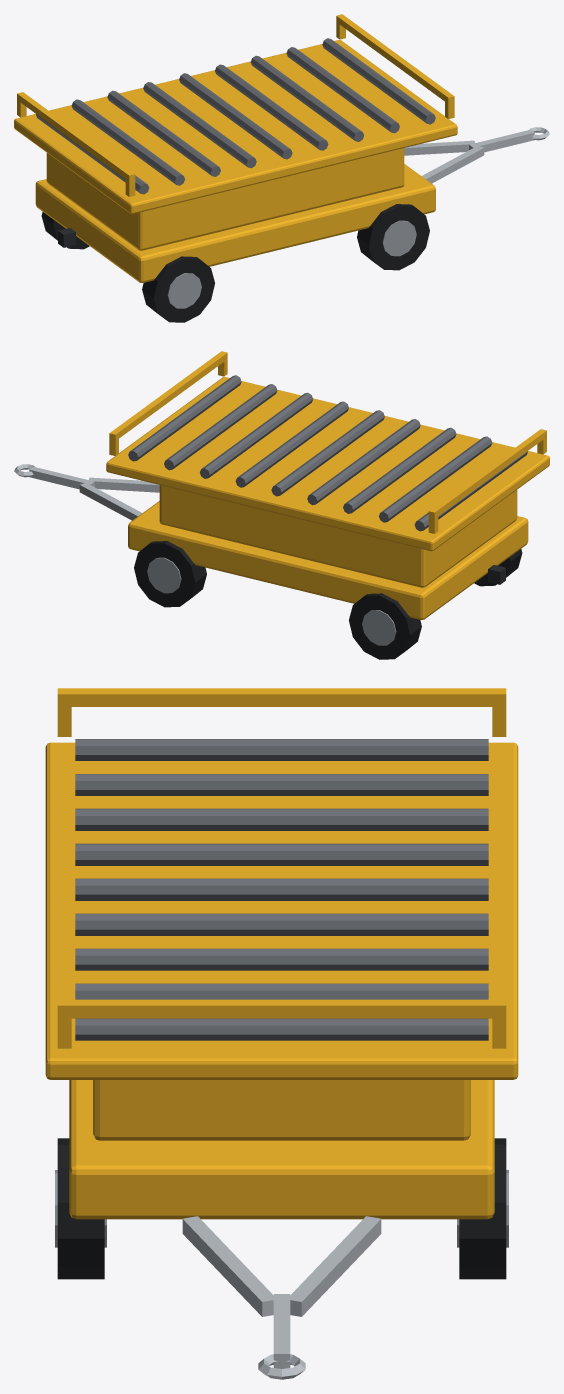
The model's file is dolly.glb.
3 views of the same model, one above another, from view 1: azimuth 30°, elevation 25°; view 2: azimuth 150°, elevation 25°; view 3: azimuth 270°, elevation 25° (orthographic). The views are drawn at different scales.
Visible parts, largest first — view 1: Deck, Body, Frame, Wheel, Wheel.002, Roller.002, Roller.005, Roller.008, Roller.003, Roller.004, Roller.001, Roller.007 (+10 smaller); view 2: Deck, Body, Frame, Wheel.001, Wheel.003, Roller.002, Roller.005, Roller.008, Roller.003, Roller.004, Roller.001, Roller.007 (+10 smaller); view 3: Deck, Frame, Body, Roller.002, Roller.003, Roller.004, Roller.005, Roller.006, Roller.008, Roller, Roller.001, EndRail.001 (+7 smaller).
Boxes of the visible parts, box(x1,y1,x2,y2) form: Deck: box(14, 40, 457, 214); Body: box(46, 148, 404, 250); Frame: box(35, 164, 435, 282); Wheel: box(142, 256, 214, 322); Wheel.002: box(357, 204, 429, 270); Roller.002: box(107, 90, 220, 176); Roller.005: box(215, 64, 328, 150); Roller.008: box(322, 38, 435, 124); Roller.003: box(143, 82, 256, 168); Roller.004: box(179, 73, 292, 159); Roller.001: box(71, 99, 184, 185); Roller.007: box(286, 47, 399, 133); Deck: box(106, 377, 549, 551); Body: box(159, 485, 517, 587); Frame: box(128, 501, 528, 619); Wheel.001: box(349, 593, 421, 659); Wheel.003: box(134, 541, 206, 607); Roller.002: box(343, 427, 456, 513); Roller.005: box(235, 401, 348, 487); Roller.008: box(128, 375, 241, 461); Roller.003: box(307, 419, 420, 505); Roller.004: box(271, 410, 384, 496); Roller.001: box(379, 436, 492, 522); Roller.007: box(164, 384, 277, 470); Deck: box(45, 742, 518, 1079); Frame: box(69, 1080, 494, 1219); Body: box(93, 1080, 470, 1140); Roller.002: box(75, 808, 488, 830); Roller.003: box(75, 843, 488, 865); Roller.004: box(75, 878, 488, 900); Roller.005: box(75, 913, 488, 935); Roller.006: box(75, 948, 488, 970); Roller.008: box(75, 1018, 488, 1040); Roller: box(75, 739, 488, 760); Roller.001: box(75, 774, 488, 795); EndRail.001: box(57, 999, 506, 1018).
Bounding box in the file's own units: 4.77 × 1.5 × 2.
